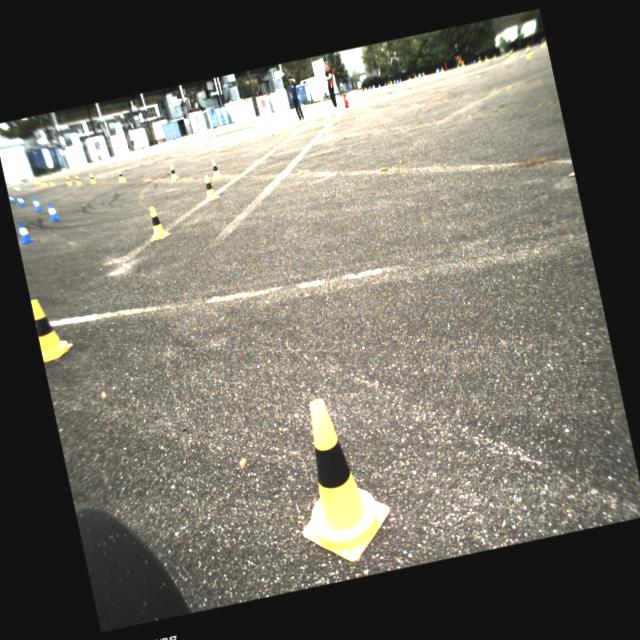blue_cone: (16, 219, 34, 245), (46, 201, 61, 222), (31, 195, 44, 212), (15, 193, 27, 208), (8, 192, 16, 205), (40, 172, 46, 180), (434, 67, 440, 74), (18, 179, 24, 185), (417, 72, 422, 79), (377, 82, 381, 90), (6, 183, 10, 190), (472, 58, 476, 65), (347, 90, 351, 96), (364, 86, 368, 92), (368, 84, 372, 90), (396, 78, 400, 84), (268, 111, 272, 116), (372, 83, 376, 88), (192, 130, 195, 136), (302, 102, 305, 108), (256, 114, 260, 118), (393, 79, 396, 84), (399, 77, 402, 82), (439, 67, 442, 72), (172, 137, 174, 142), (216, 125, 218, 130), (146, 145, 148, 149), (350, 90, 352, 94), (359, 88, 361, 92), (384, 82, 386, 86)
large_orange_cone: (31, 174, 39, 186)
yellow_cone: (276, 388, 398, 570), (30, 294, 74, 362), (143, 203, 171, 240), (200, 173, 220, 201), (208, 158, 224, 180), (168, 163, 178, 182), (116, 168, 125, 182), (64, 174, 72, 186), (504, 51, 512, 63), (524, 46, 532, 58), (538, 36, 546, 47), (89, 172, 96, 184), (74, 174, 82, 184), (40, 176, 48, 186), (508, 48, 516, 58), (48, 176, 54, 186), (476, 55, 482, 64), (460, 60, 466, 68), (482, 54, 488, 62), (50, 170, 55, 178), (389, 80, 394, 88), (38, 178, 42, 186), (492, 53, 497, 59), (525, 43, 530, 49), (158, 141, 162, 147), (174, 136, 178, 142), (198, 130, 202, 136), (300, 103, 304, 109), (361, 88, 365, 94), (413, 73, 417, 79), (421, 71, 425, 77), (440, 66, 444, 72), (456, 62, 460, 68), (138, 147, 142, 152), (218, 124, 221, 130), (386, 80, 389, 86), (366, 85, 369, 90), (371, 84, 374, 89), (356, 88, 358, 94), (356, 88, 359, 92), (364, 86, 366, 91), (408, 75, 410, 80), (389, 80, 391, 84)
